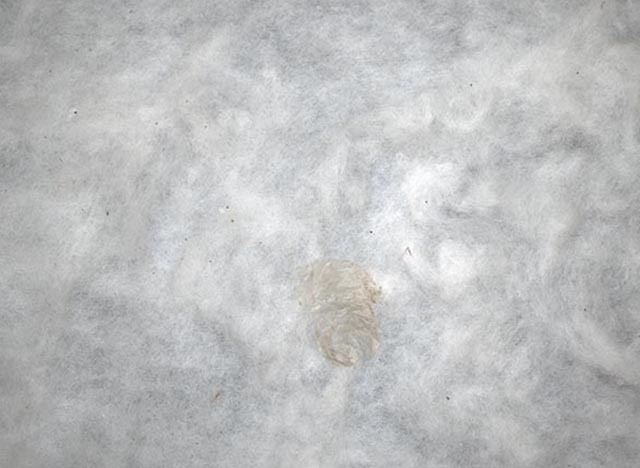plastic film: (302, 260, 380, 370)
